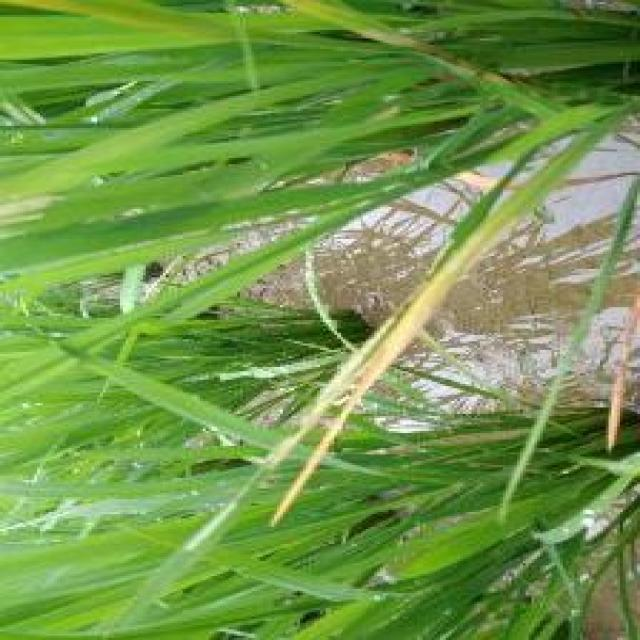Tungro: (288, 178, 536, 502)
